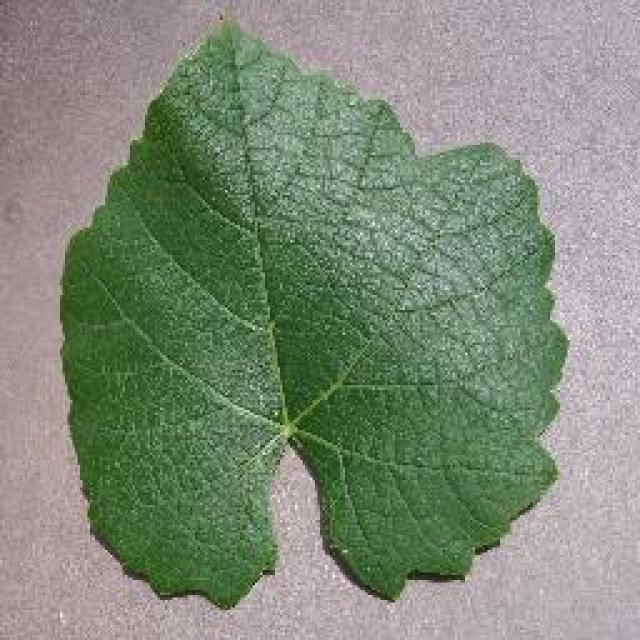Grape___healthy: (62, 22, 565, 605)
